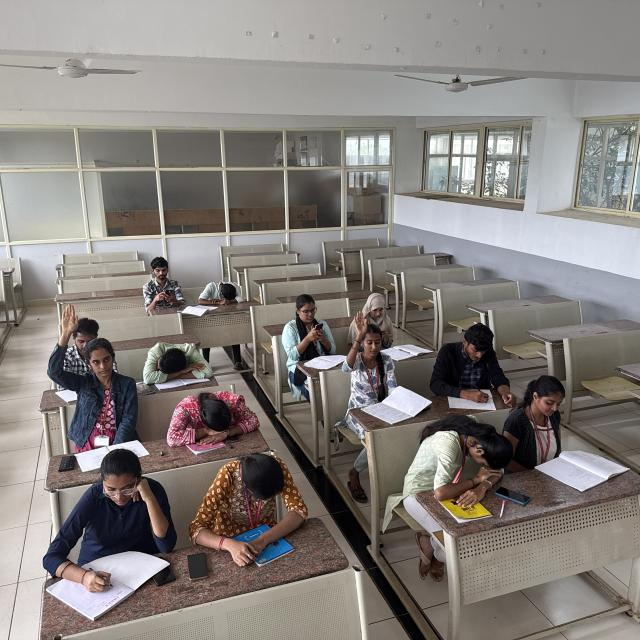Hand Rising: (45, 300, 140, 430), (343, 312, 395, 403)
Reading: (505, 371, 590, 481)
Sleeping: (421, 408, 519, 486), (165, 386, 264, 442), (140, 332, 218, 380), (196, 272, 251, 308)
Using Phone: (282, 292, 336, 358), (137, 255, 185, 312), (351, 292, 398, 346)
Writing: (54, 450, 168, 608), (436, 322, 531, 411)
